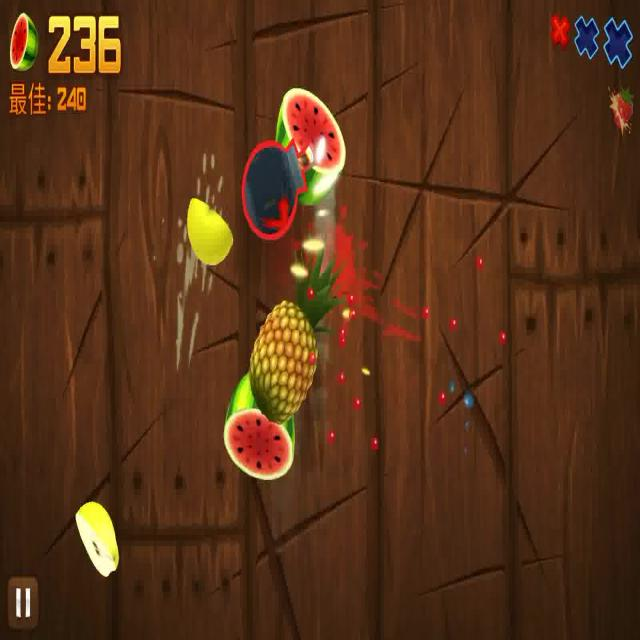bomb: (241, 133, 311, 237)
fruit: (250, 245, 347, 426), (275, 80, 346, 202), (224, 374, 296, 482), (187, 193, 232, 271), (77, 504, 121, 577)
